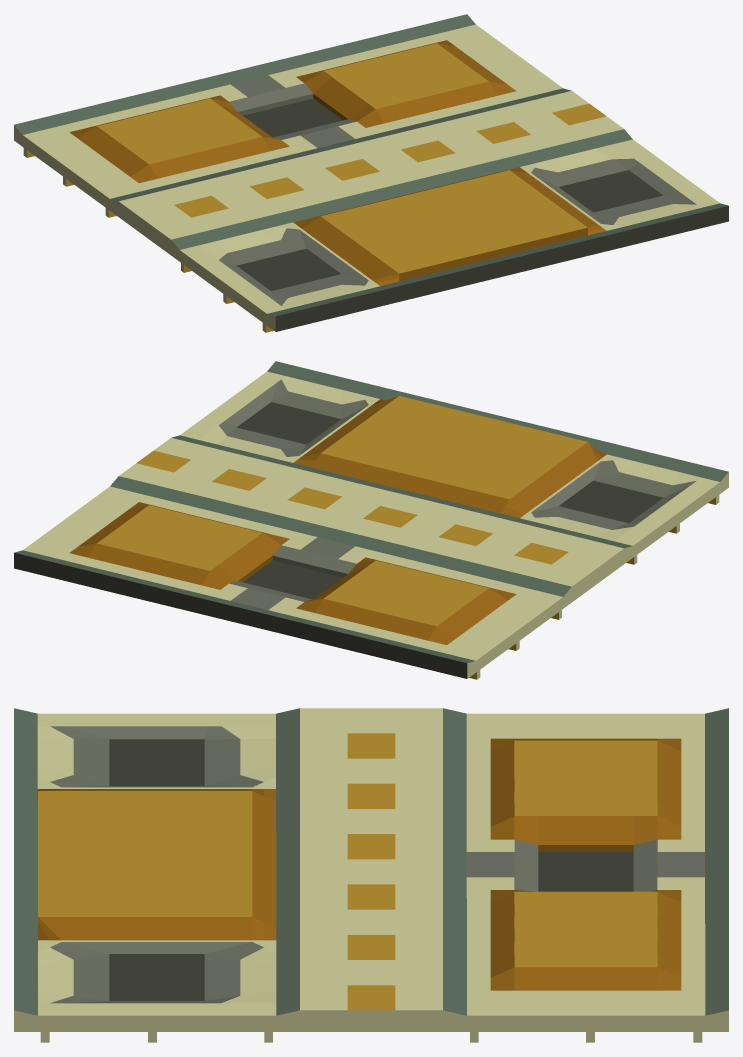
File: Floor.fbx
3 renders of one model, top to bottom at view 1: azimuth 30°, elevation 25°; view 2: azimuth 150°, elevation 25°; view 3: azimuth 270°, elevation 25°, orthographic. The views are drawn at different scales.
Visible parts, largest first — view 1: Floor; view 2: Floor; view 3: Floor.
Part boxes in pixels (x1,y1,x2,y2): Floor: (14,14,728,332); Floor: (14,361,728,679); Floor: (14,708,728,1042).
Bounding box in the file's own units: 3000 × 175 × 3000.
